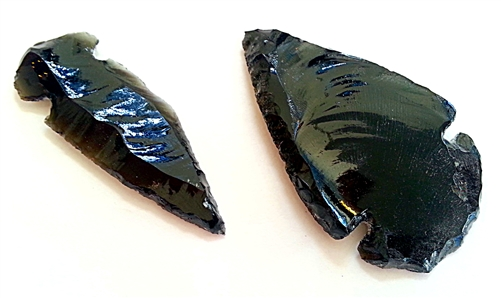Obsidian: (242, 29, 483, 273), (10, 30, 227, 235)
